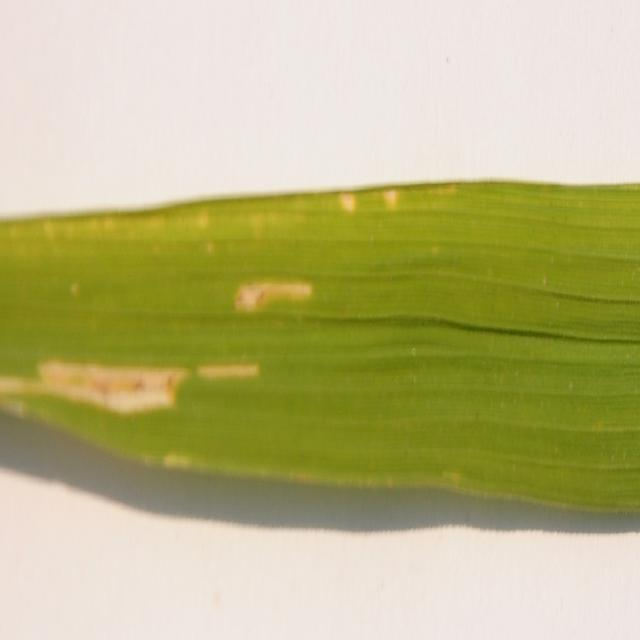bacterial_leaf_blight: (0, 361, 188, 414), (235, 281, 313, 312), (198, 363, 259, 379)
